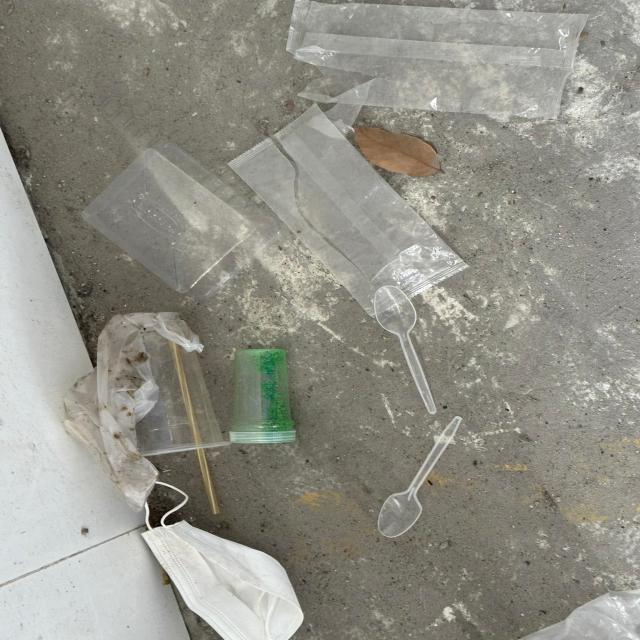bag: (63, 312, 204, 514)
drinking straw: (168, 320, 220, 516)
mask: (143, 478, 304, 640)
packet: (228, 104, 470, 318), (284, 0, 587, 122)
plastic glass: (132, 312, 229, 457)
plastic holder: (84, 143, 274, 298)
plastic utensil: (377, 415, 462, 537), (377, 287, 437, 416)
